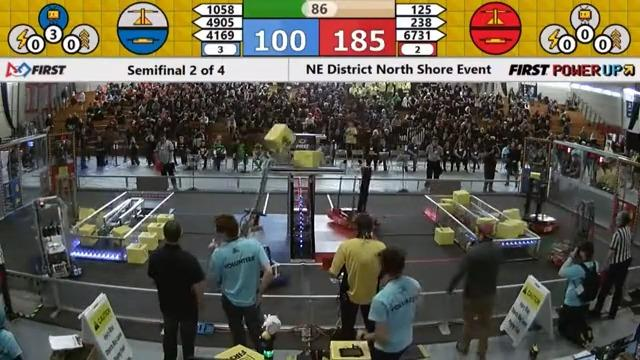robot: (208, 123, 300, 291), (26, 196, 84, 286), (326, 156, 383, 233), (546, 196, 600, 276), (514, 170, 562, 237), (45, 169, 84, 228)
